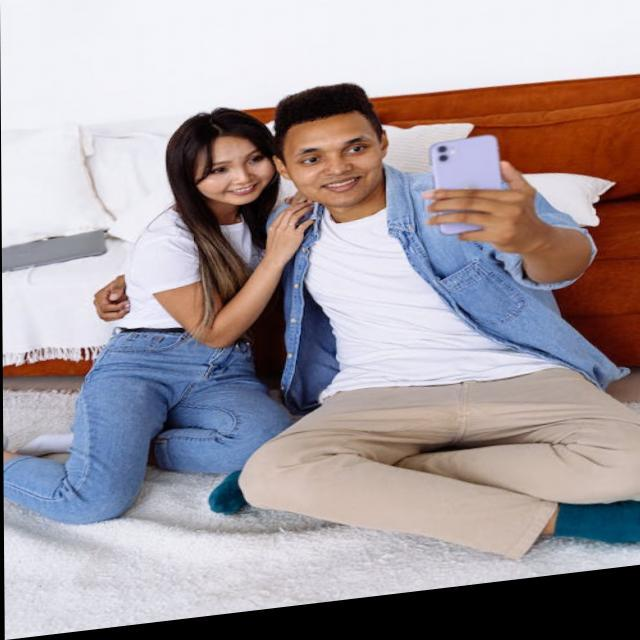Nonhelmet: (273, 68, 392, 228), (154, 96, 280, 222)
